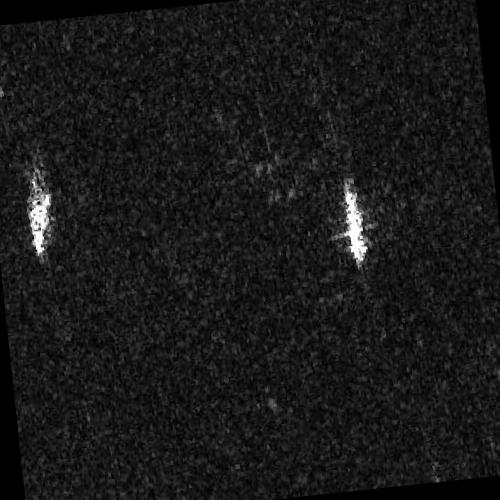ship: (343, 182, 368, 269), (27, 172, 50, 258)
